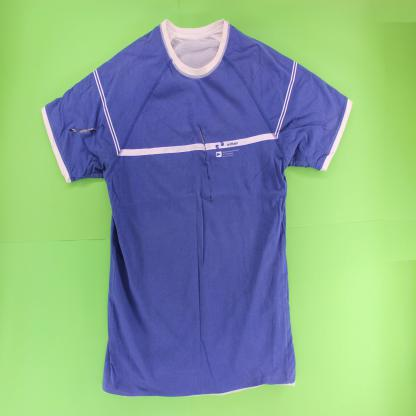hole: (197, 122, 214, 206), (67, 123, 106, 136)
